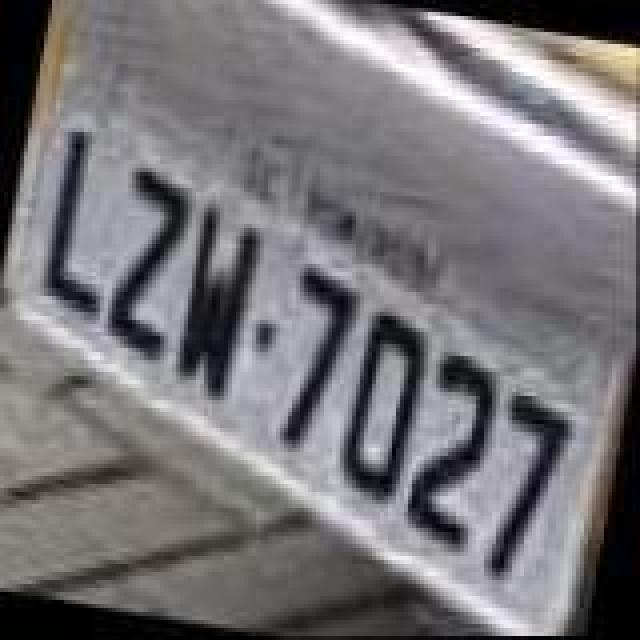2: (402, 346, 506, 562)
7: (474, 378, 586, 590), (266, 256, 370, 460)
L: (32, 122, 140, 326)
O: (336, 304, 436, 508)
W: (166, 196, 270, 408)
Z: (98, 158, 202, 370)
